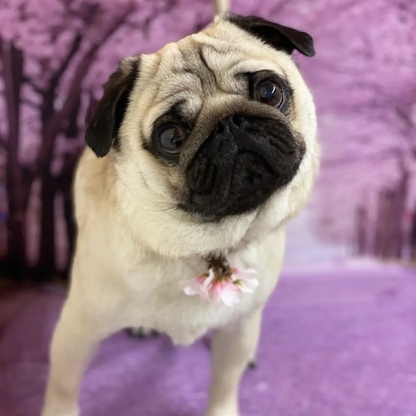Pug: (37, 9, 324, 416)
